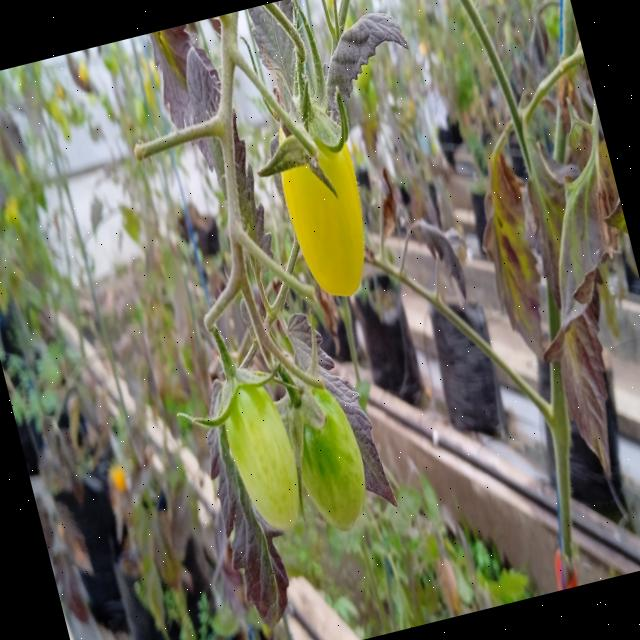fine: (254, 58, 395, 332)
unripe: (201, 360, 314, 546), (274, 368, 384, 555)
